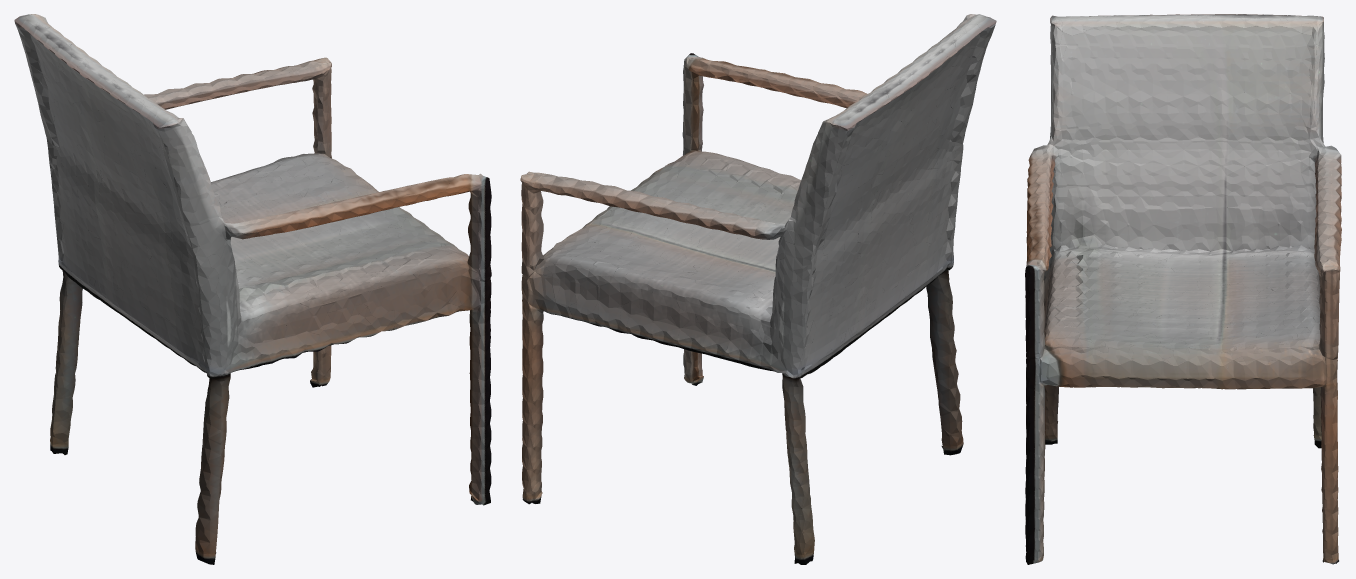
Rendered from elem_115_131_206_213_0_6.obj.
The picture shows the model from 3 angles, left to right: view 1: azimuth 30°, elevation 25°; view 2: azimuth 150°, elevation 25°; view 3: azimuth 270°, elevation 25°; orthographic projection. The views are drawn at different scales.
Size of the model in its own units: 0.5539 by 0.7109 by 0.4948.
1 material, 1 textured.
